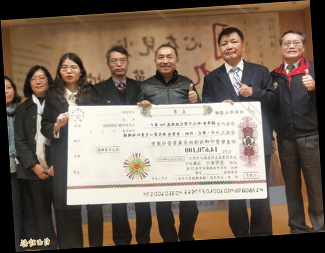without_mask: (219, 37, 243, 61), (281, 38, 305, 60), (155, 52, 178, 74), (59, 63, 82, 84), (107, 56, 129, 76), (29, 75, 50, 93), (5, 83, 16, 103)
